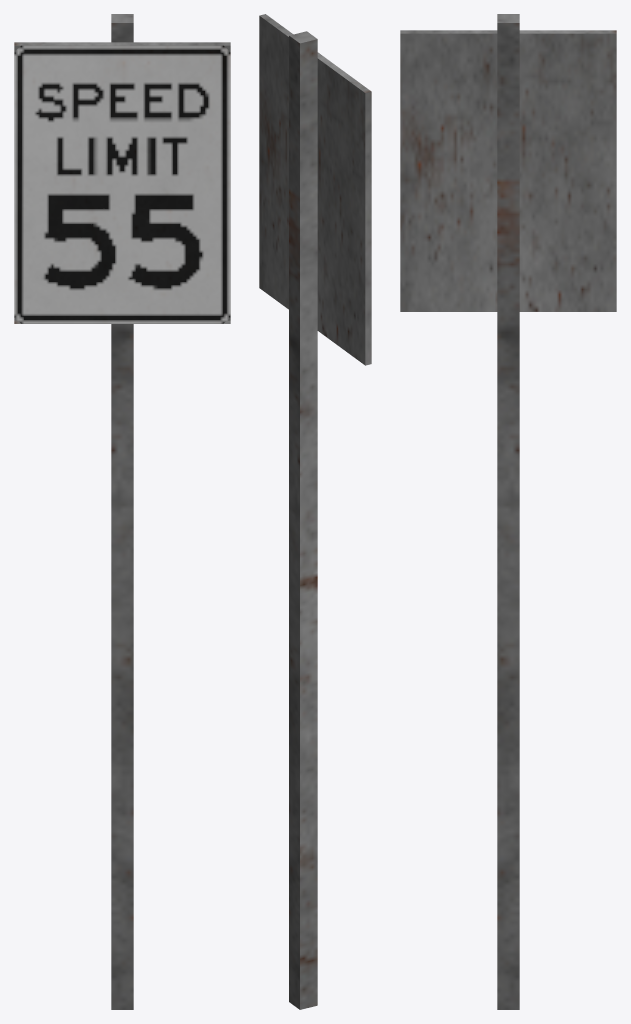
Rendered from Sign_SL55.obj.
3 renders of one model, left to right at view 1: azimuth 90°, elevation 25°; view 2: azimuth 210°, elevation 25°; view 3: azimuth 270°, elevation 25°, orthographic. The views are drawn at different scales.
Visible parts, largest first — view 1: Sign_SL55; view 2: Sign_SL55; view 3: Sign_SL55.
Boxes of the visible parts, left/top/right/bottom form: Sign_SL55: left=14, top=14, right=230, bottom=1009; Sign_SL55: left=259, top=14, right=371, bottom=1009; Sign_SL55: left=400, top=14, right=616, bottom=1009.
Bounding box in the file's own units: 0.0576 × 2.21 × 0.4385.
